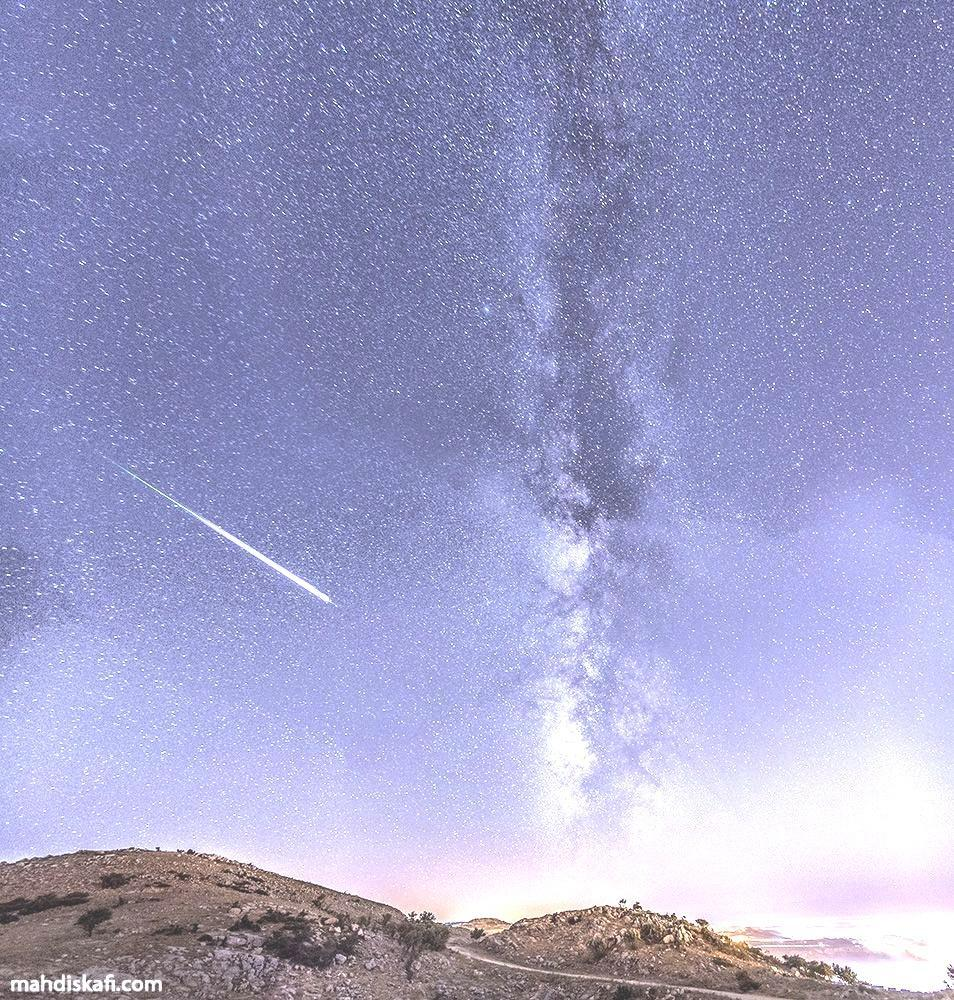meteorite: (77, 428, 360, 609)
